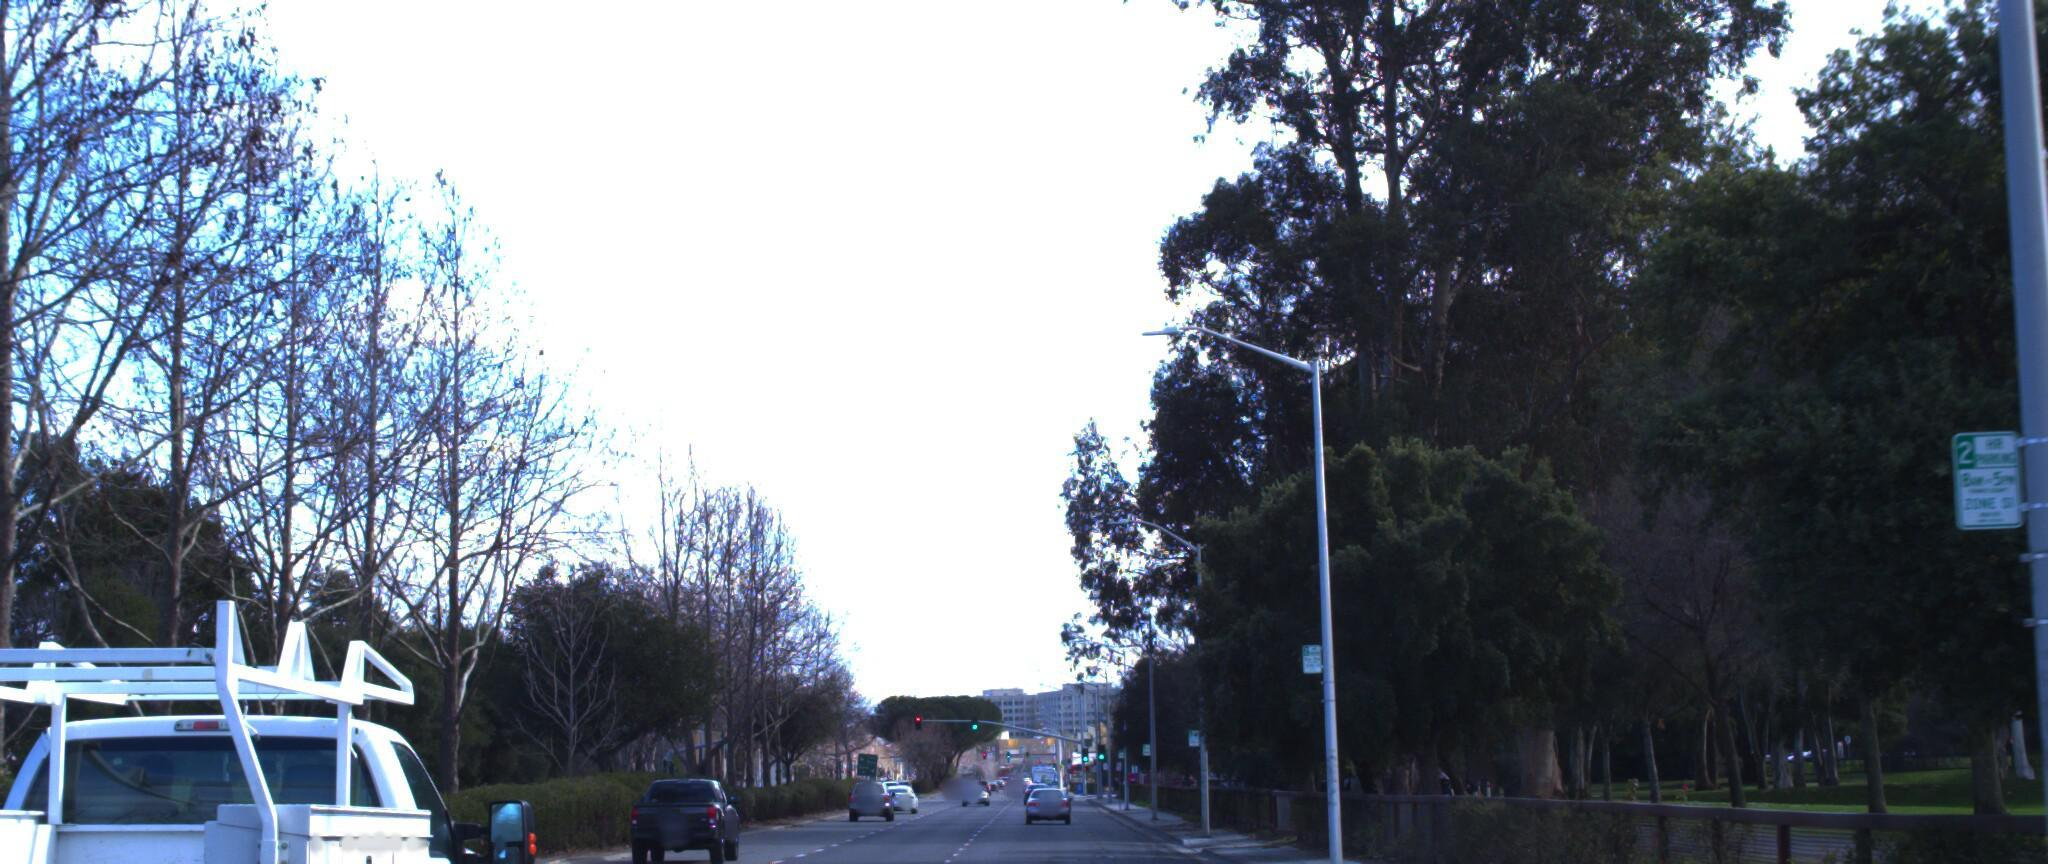car: (0, 566, 539, 864), (635, 770, 751, 861)
